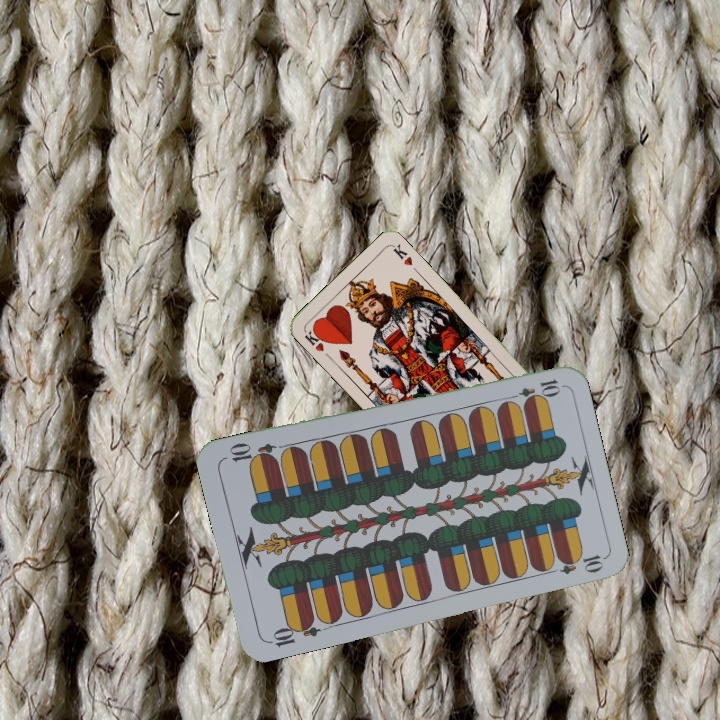E10: (264, 614, 322, 650), (504, 375, 563, 404)
HK: (300, 323, 329, 354)
